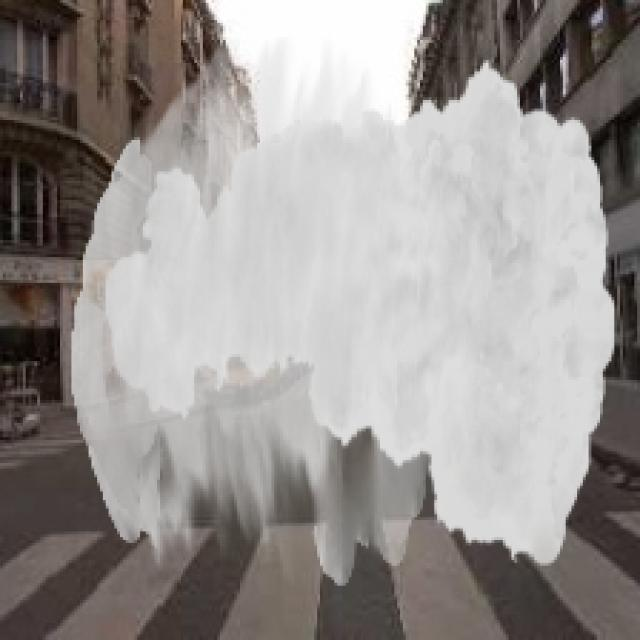Smoke: (72, 37, 618, 586)
